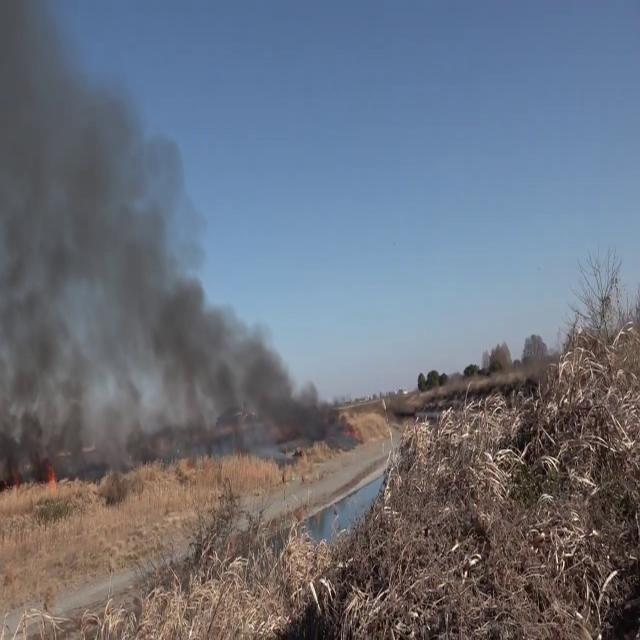Smoke: (1, 1, 312, 468)
